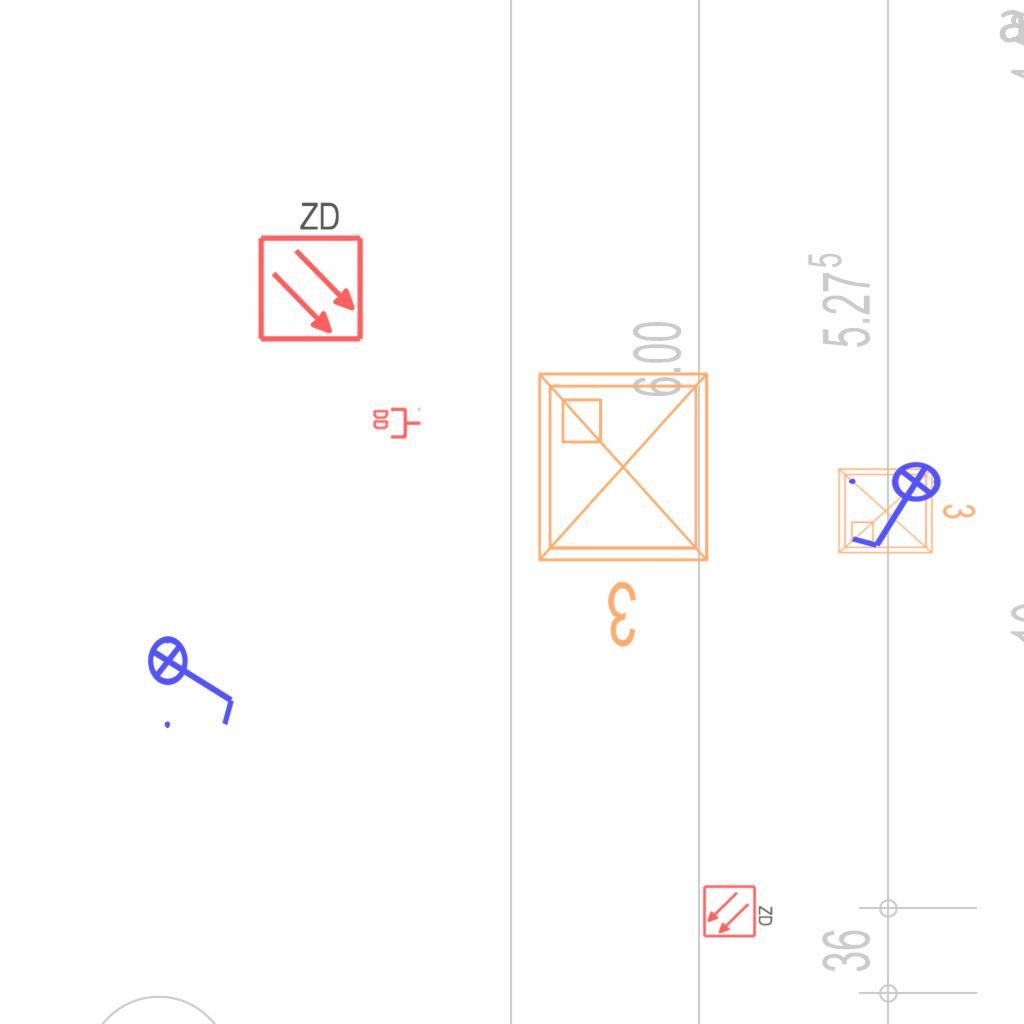Ausschalter_beleuchtet: (146, 622, 242, 734), (843, 460, 955, 556)
Datenanschluss_zweifach: (371, 407, 422, 441)
Einbaudownlights_LED_Konferenzraeume: (523, 358, 731, 658), (831, 457, 981, 561)
ZD_Melder_in_Zwischendecke_mit_Revisionsoeffnung_mind_40_x_40_cm: (252, 195, 366, 344), (702, 882, 776, 939)
